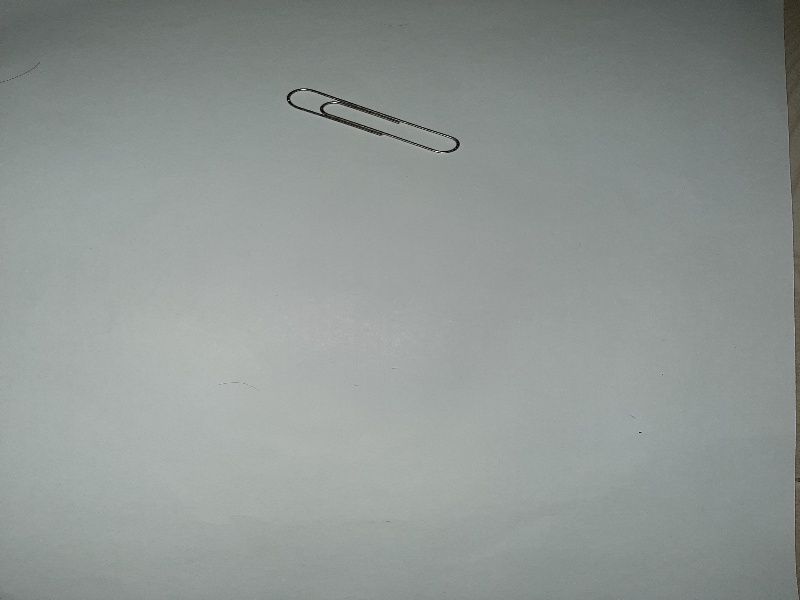Big Jumpclip: (282, 77, 466, 164)
